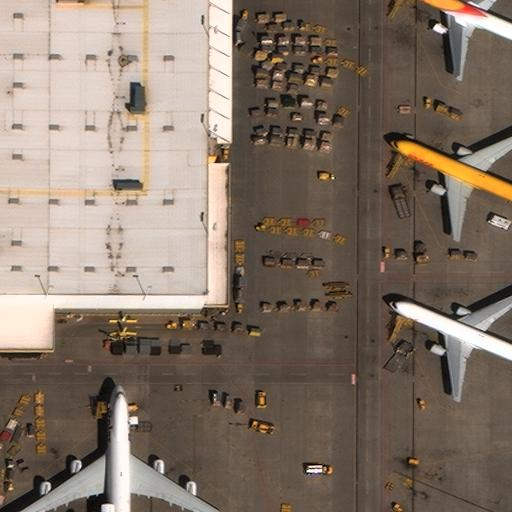Large Civil Transport: (16, 385, 223, 512), (389, 129, 511, 240), (389, 288, 511, 399), (403, 0, 511, 77)
